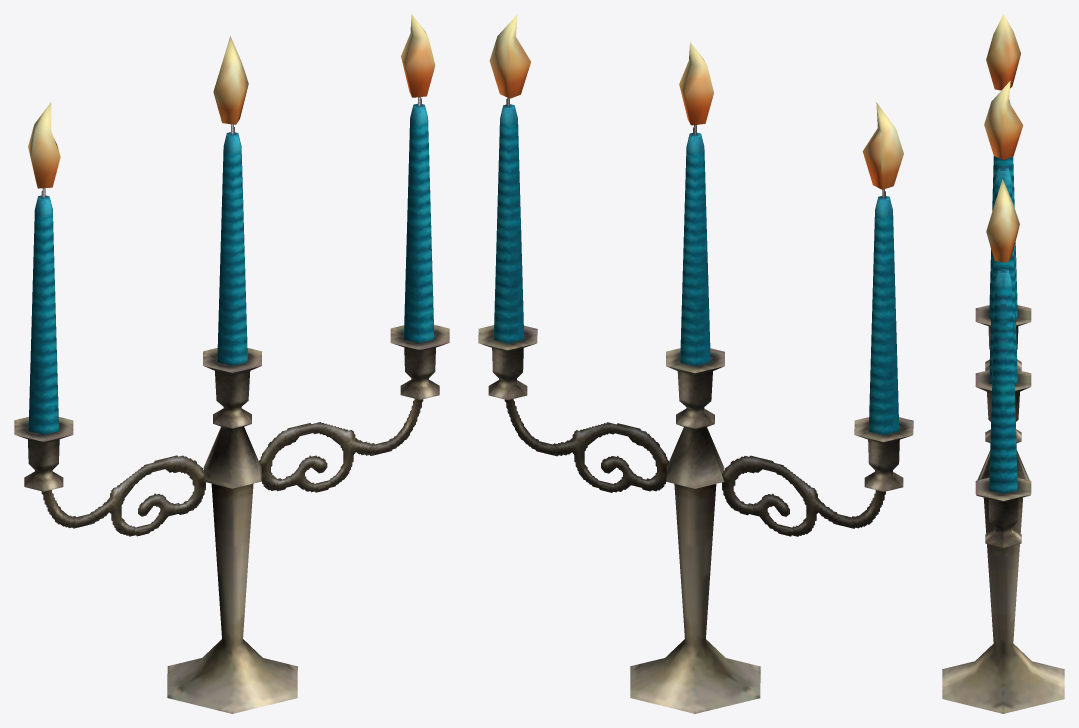
Rendered from furni_0200304_02.FBX.
3 views of the same model, side by side, from view 1: azimuth 30°, elevation 25°; view 2: azimuth 150°, elevation 25°; view 3: azimuth 270°, elevation 25° (orthographic). The views are drawn at different scales.
Parts seen in each view (by area): view 1: furni_0200304_02; view 2: furni_0200304_02; view 3: furni_0200304_02.
Part boxes in pixels (x1,y1,x2,y2): furni_0200304_02: (14,14,449,713); furni_0200304_02: (478,14,913,713); furni_0200304_02: (942,14,1064,713).
Size of the model in its own units: 47.19 by 66.65 by 12.26.
